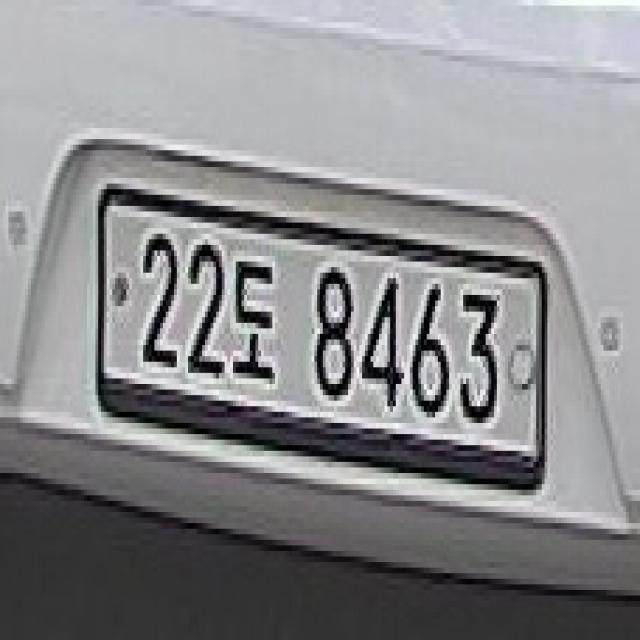2: (184, 232, 228, 383), (138, 228, 179, 375)
3: (457, 280, 504, 430)
4: (359, 265, 407, 412)
6: (411, 273, 453, 420)
8: (311, 261, 358, 405)
do: (231, 246, 280, 394)
license_plate: (107, 205, 538, 454)
